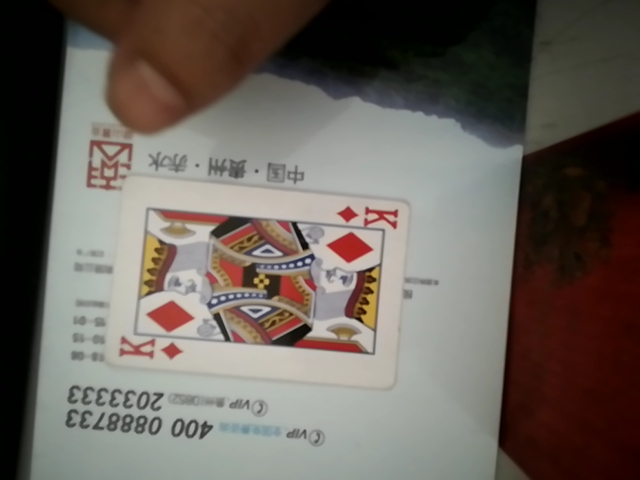fk k: (107, 179, 404, 379)
